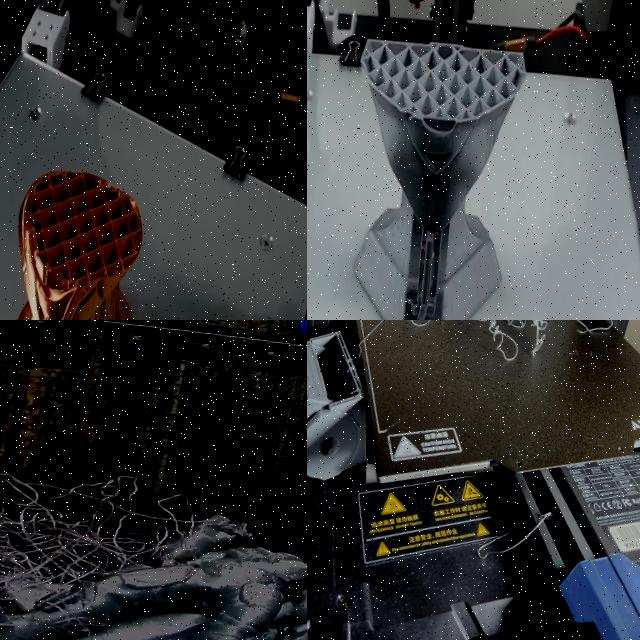spaghetti: (0, 438, 191, 640), (413, 320, 622, 372)
